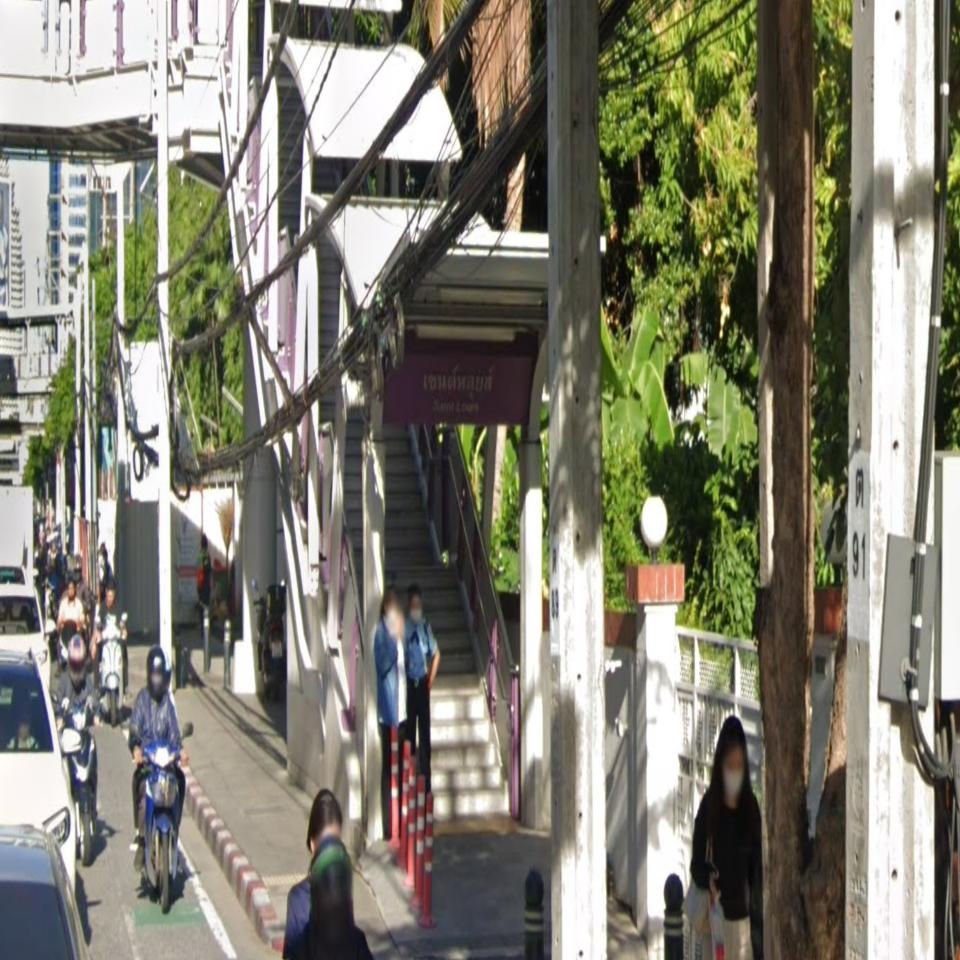Saint Louis: (384, 350, 540, 426)
